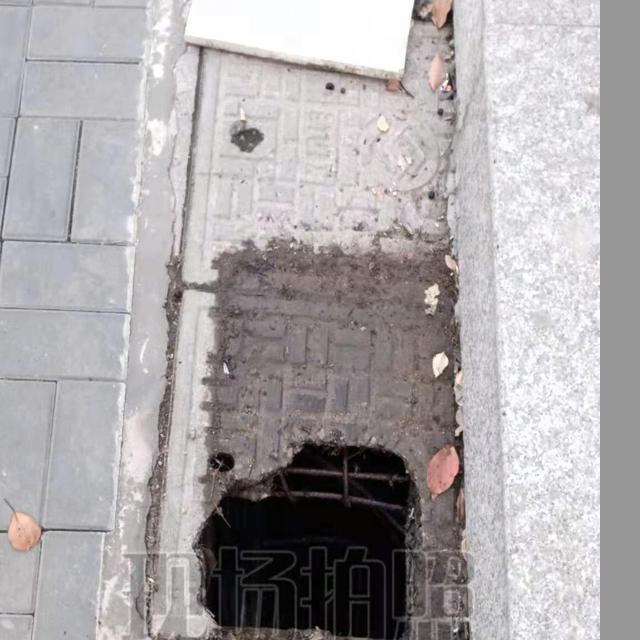broke: (158, 151, 506, 640)
